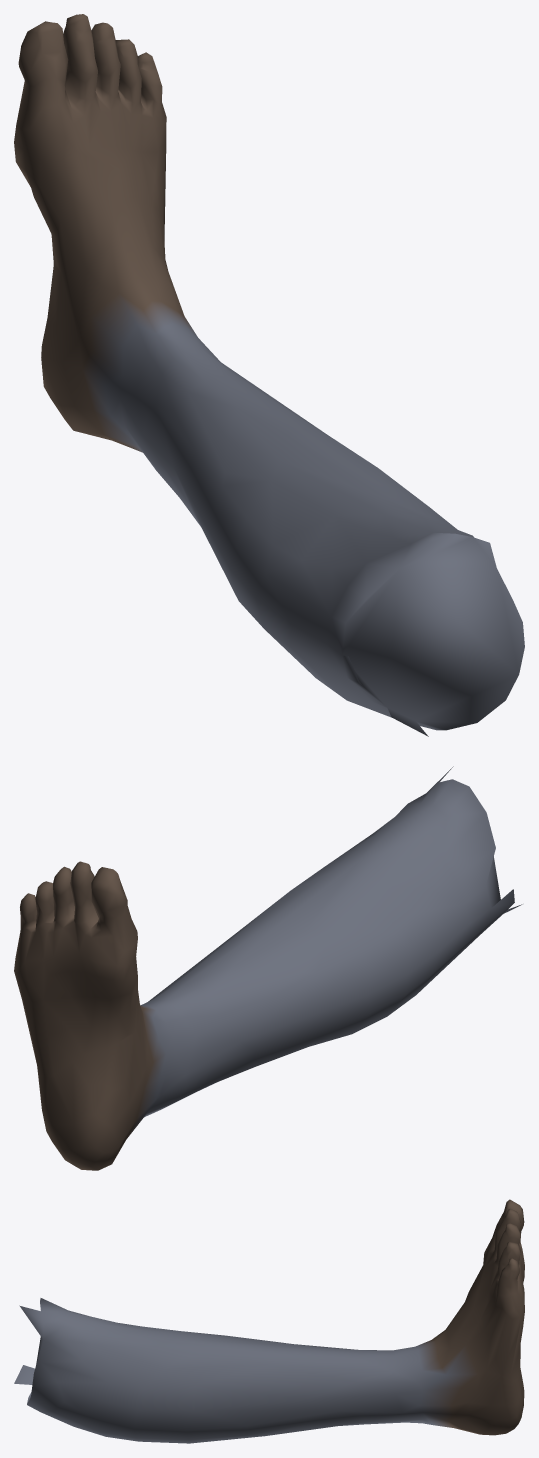
Rendered from teibi_right_lower_leg_authored.glb.
3 renders of one model, top to bottom at view 1: azimuth 30°, elevation 25°; view 2: azimuth 150°, elevation 25°; view 3: azimuth 270°, elevation 25°, orthographic. The views are drawn at different scales.
Parts seen in each view (by area): view 1: piece_rightleg_lowerleg_mesh; view 2: piece_rightleg_lowerleg_mesh; view 3: piece_rightleg_lowerleg_mesh.
Part boxes in pixels (x1,y1,x2,y2): piece_rightleg_lowerleg_mesh: (14, 14, 524, 736); piece_rightleg_lowerleg_mesh: (14, 766, 522, 1170); piece_rightleg_lowerleg_mesh: (14, 1199, 524, 1443).
Size of the model in its own units: 0.1546 by 0.2752 by 0.5409.
